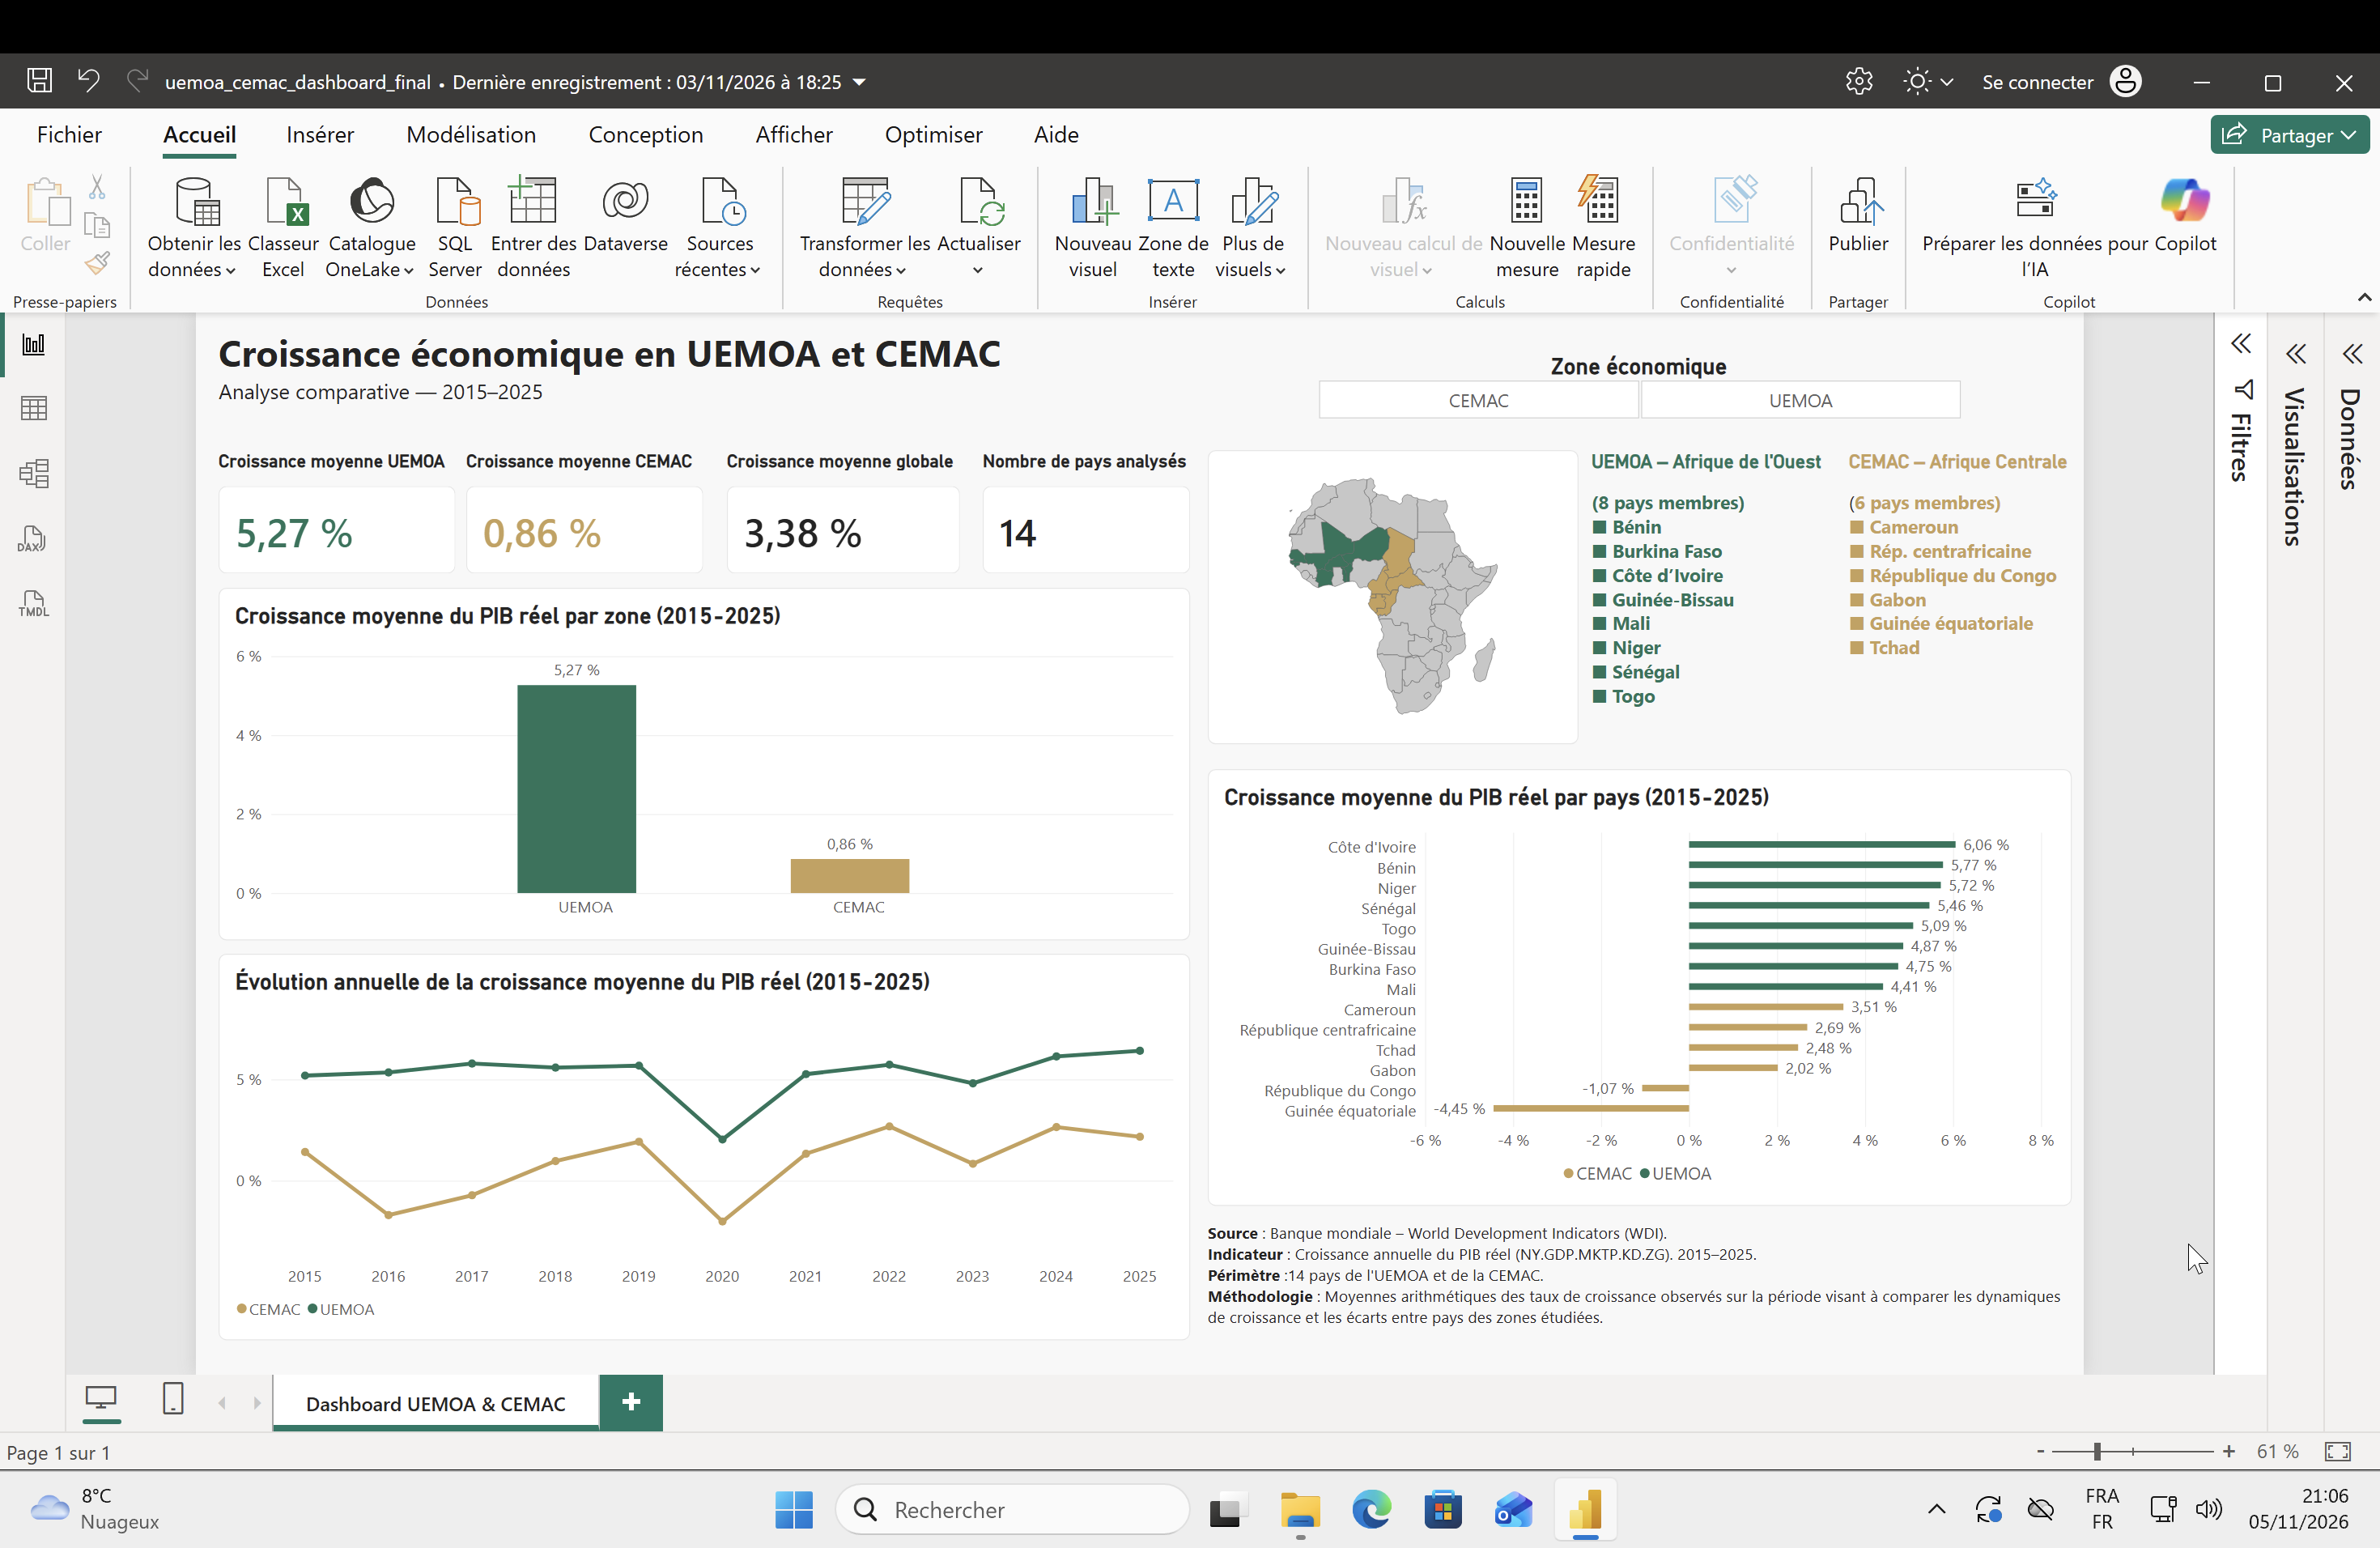

The dashboard page shown, as its layout file describes it:
{"tool":"powerbi","page":{"name":"Dashboard UEMOA & CEMAC","canvas":[1920,1080],"ordinal":0},"visuals":[{"type":"clusteredColumnChart","title":"Croissance moyenne du PIB réel par zone (2015-2025)","fields":{"Category":["dim_pays.zone"],"Y":["fact_indicateurs.Croissance moyenne (%)"]},"box":[22.3,280.4,987.9,358.4],"z":0},{"type":"lineChart","title":"Évolution annuelle de la croissance moyenne du PIB réel (2015-2025)","fields":{"Category":["fact_indicateurs.annee"],"Series":["dim_pays.zone"],"Y":["fact_indicateurs.Croissance moyenne (%)"]},"box":[22.3,651.8,987.9,393],"z":1000},{"type":"clusteredBarChart","title":"Croissance moyenne du PIB réel par pays (2015-2025)","fields":{"Category":["dim_pays.nom_pays"],"Series":["dim_pays.zone"],"Y":["fact_indicateurs.Croissance moyenne (%)"]},"box":[1028.7,464.2,878.3,443.8],"z":2000},{"type":"slicer","title":"      Zone économique","fields":{"Values":["dim_pays.zone"]},"box":[1121.5,40.9,692.6,68.7],"z":3000},{"type":"textbox","box":[22.3,14.9,820.7,94.7],"z":4000},{"type":"cardVisual","title":"Croissance moyenne UEMOA","fields":{"Data":["fact_indicateurs.Croissance moyenne (%)"]},"box":[22.3,139.3,241.4,126.3],"z":5000},{"type":"cardVisual","title":"Croissance moyenne CEMAC","fields":{"Data":["fact_indicateurs.Croissance moyenne (%)"]},"box":[274.8,139.3,241.4,126.3],"z":6000},{"type":"cardVisual","title":"Croissance moyenne globale ","fields":{"Data":["fact_indicateurs.Croissance moyenne (%)"]},"box":[540.3,139.3,237.7,126.3],"z":7000},{"type":"cardVisual","title":"Nombre de pays analysés","fields":{"Data":["CountNonNull(dim_pays.id_pays)"]},"box":[800.3,139.3,211.7,126.3],"z":8000},{"type":"textbox","title":"UEMOA – Afrique de l''Ouest","box":[1418.6,139.3,248.8,299],"z":9000},{"type":"textbox","box":[1028.7,906.2,876.4,141.1],"z":10000},{"type":"textbox","title":"CEMAC – Afrique Centrale","box":[1680.5,139.3,230.3,299],"z":11000},{"type":"shapeMap","fields":{"Category":["dim_pays.pays_carte"],"Series":["dim_pays.zone"]},"box":[1028.7,139.3,376.9,299],"z":13000}]}

Visuals, with their boxes on the page's 1920x1080 design canvas (x1, y1, x2, y2). These are canvas units, not pixel positions in the 2380x1548 screenshot, which may show the page scaled, cropped or inside an application window:
"Croissance moyenne du PIB réel par zone (2015-2025)" clusteredColumnChart: Rect(22, 280, 1010, 639)
"Évolution annuelle de la croissance moyenne du PIB réel (2015-2025)" lineChart: Rect(22, 652, 1010, 1045)
"Croissance moyenne du PIB réel par pays (2015-2025)" clusteredBarChart: Rect(1029, 464, 1907, 908)
"      Zone économique" slicer: Rect(1122, 41, 1814, 110)
textbox: Rect(22, 15, 843, 110)
"Croissance moyenne UEMOA" cardVisual: Rect(22, 139, 264, 266)
"Croissance moyenne CEMAC" cardVisual: Rect(275, 139, 516, 266)
"Croissance moyenne globale " cardVisual: Rect(540, 139, 778, 266)
"Nombre de pays analysés" cardVisual: Rect(800, 139, 1012, 266)
"UEMOA – Afrique de l''Ouest" textbox: Rect(1419, 139, 1667, 438)
textbox: Rect(1029, 906, 1905, 1047)
"CEMAC – Afrique Centrale" textbox: Rect(1680, 139, 1911, 438)
shapeMap - dim_pays.pays_carte x dim_pays.zone: Rect(1029, 139, 1406, 438)
